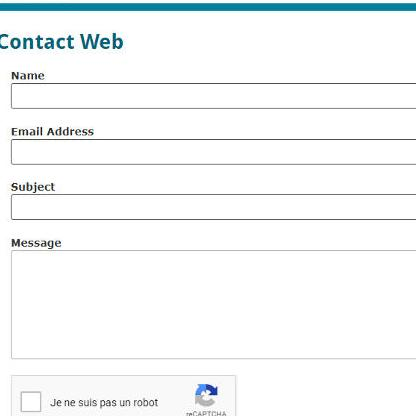checkbox: (18, 389, 42, 414)
checkbox_with_label: (14, 387, 159, 415)
field: (9, 248, 416, 362), (10, 136, 416, 168), (9, 81, 415, 111), (9, 193, 416, 222)
field_with_label: (8, 238, 415, 363), (7, 70, 415, 113), (8, 127, 416, 170), (7, 182, 416, 224)
